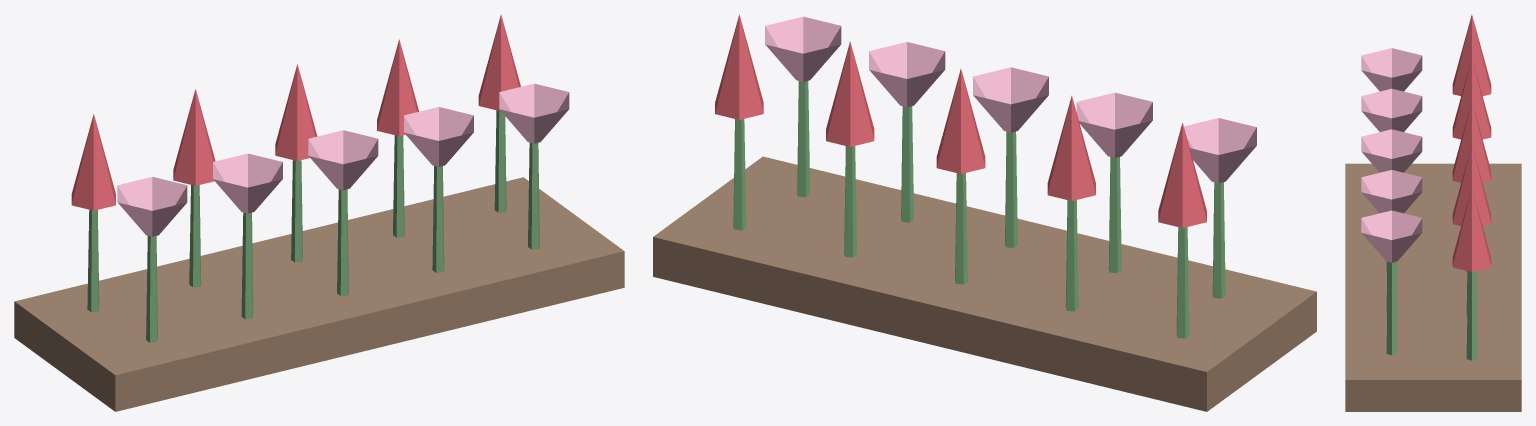
File: flora_36_lilium_longiflorum_va_gladiolus_luong_hoa_ly_lay_on_hiep_an.glb
3 renders of one model, left to right at view 1: azimuth 30°, elevation 25°; view 2: azimuth 150°, elevation 25°; view 3: azimuth 270°, elevation 25°, orthographic. The views are drawn at different scales.
Parts seen in each view (by area): view 1: flora_36_lilium_longiflorum_va_gladiolus_luong_hoa_ly_lay_on; view 2: flora_36_lilium_longiflorum_va_gladiolus_luong_hoa_ly_lay_on; view 3: flora_36_lilium_longiflorum_va_gladiolus_luong_hoa_ly_lay_on.
Boxes of the visible parts, x1,y1,x2,y2 form: flora_36_lilium_longiflorum_va_gladiolus_luong_hoa_ly_lay_on: [14, 14, 624, 411]; flora_36_lilium_longiflorum_va_gladiolus_luong_hoa_ly_lay_on: [653, 14, 1316, 411]; flora_36_lilium_longiflorum_va_gladiolus_luong_hoa_ly_lay_on: [1345, 14, 1521, 411].
Bounding box in the file's own units: 3.2 × 1.4 × 1.1.
